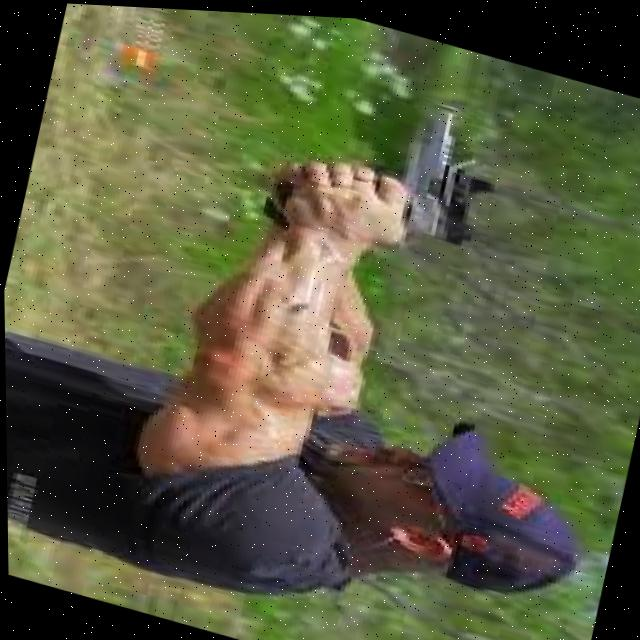pistol: (386, 91, 512, 248)
